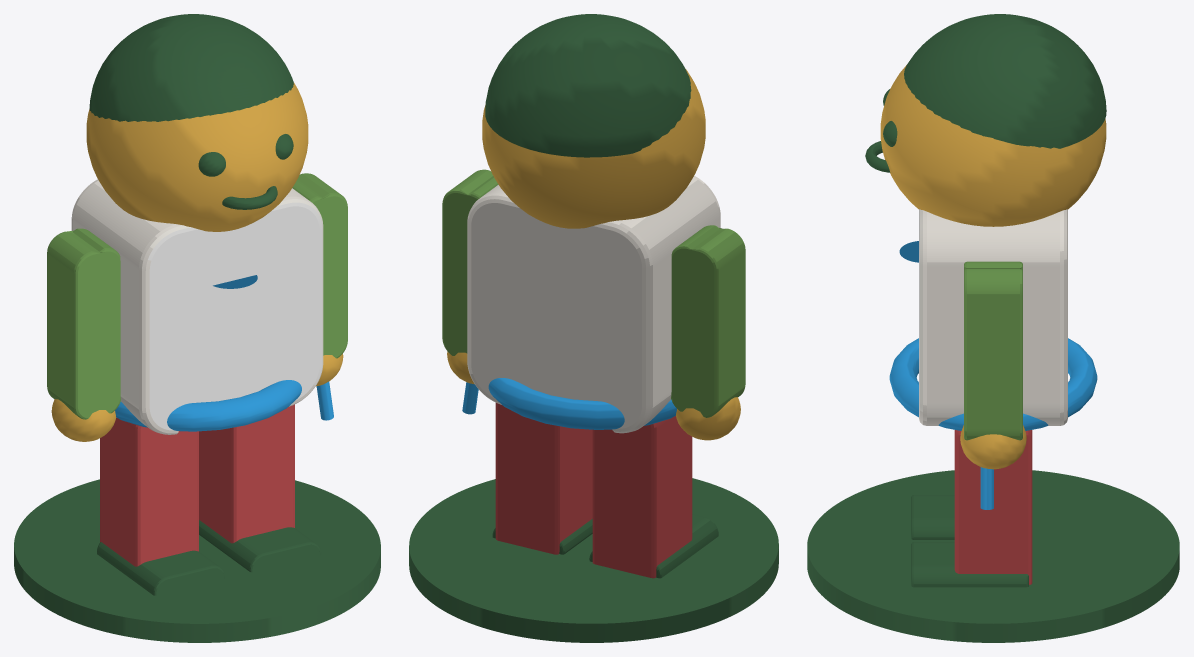
The picture shows the model from 3 angles, left to right: view 1: azimuth 30°, elevation 25°; view 2: azimuth 150°, elevation 25°; view 3: azimuth 270°, elevation 25°; orthographic projection.
Visible parts, largest first — view 1: card_1137; view 2: card_1137; view 3: card_1137.
Boxes of the visible parts, box(x1,y1,x2,y2) form: card_1137: box(14, 14, 380, 642); card_1137: box(409, 14, 778, 642); card_1137: box(807, 14, 1179, 642).
Size of the model in its own units: 0.6161 by 1 by 0.6246.
